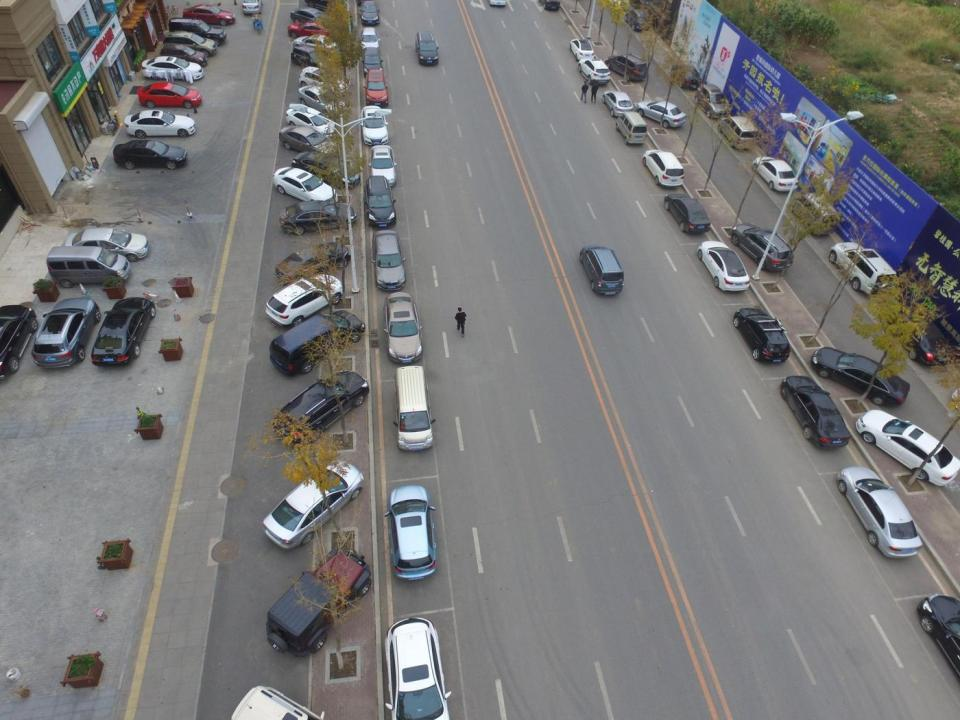car: (265, 460, 364, 551), (835, 465, 924, 558), (856, 411, 958, 488), (383, 616, 453, 720), (271, 372, 369, 443), (810, 347, 911, 407), (267, 310, 364, 371), (29, 296, 101, 370), (779, 374, 850, 449), (386, 486, 437, 582), (92, 297, 156, 367), (266, 276, 342, 332), (884, 306, 951, 365), (917, 593, 960, 682), (829, 242, 898, 296), (274, 242, 350, 287), (731, 307, 790, 364), (229, 685, 325, 720), (0, 305, 37, 389), (730, 225, 792, 274), (383, 291, 423, 365), (65, 227, 148, 262), (278, 200, 356, 237), (292, 150, 359, 193), (272, 166, 338, 209), (698, 241, 750, 294), (371, 231, 407, 292), (112, 140, 188, 168), (281, 123, 338, 160), (664, 192, 710, 235), (123, 112, 197, 138), (362, 176, 396, 229), (164, 18, 225, 47), (285, 104, 335, 139), (296, 85, 346, 120), (291, 7, 338, 44), (642, 149, 685, 189), (137, 82, 202, 108), (144, 56, 204, 83), (753, 157, 798, 192), (160, 30, 216, 58), (636, 98, 685, 128), (299, 65, 344, 97), (286, 21, 338, 48), (182, 2, 236, 28), (292, 32, 338, 62), (368, 143, 397, 188), (291, 43, 336, 72), (697, 82, 731, 120), (606, 52, 647, 82), (359, 106, 388, 148), (158, 43, 206, 68), (668, 63, 703, 91), (362, 70, 389, 106), (577, 58, 611, 86), (414, 30, 440, 66), (604, 92, 634, 120), (361, 46, 384, 79), (570, 39, 595, 65), (624, 8, 651, 32), (359, 29, 380, 57), (358, 0, 379, 25), (241, 0, 262, 15)
van: (45, 246, 129, 288), (393, 366, 433, 451), (580, 243, 624, 296), (792, 194, 836, 236), (719, 113, 759, 150), (614, 114, 648, 146)
